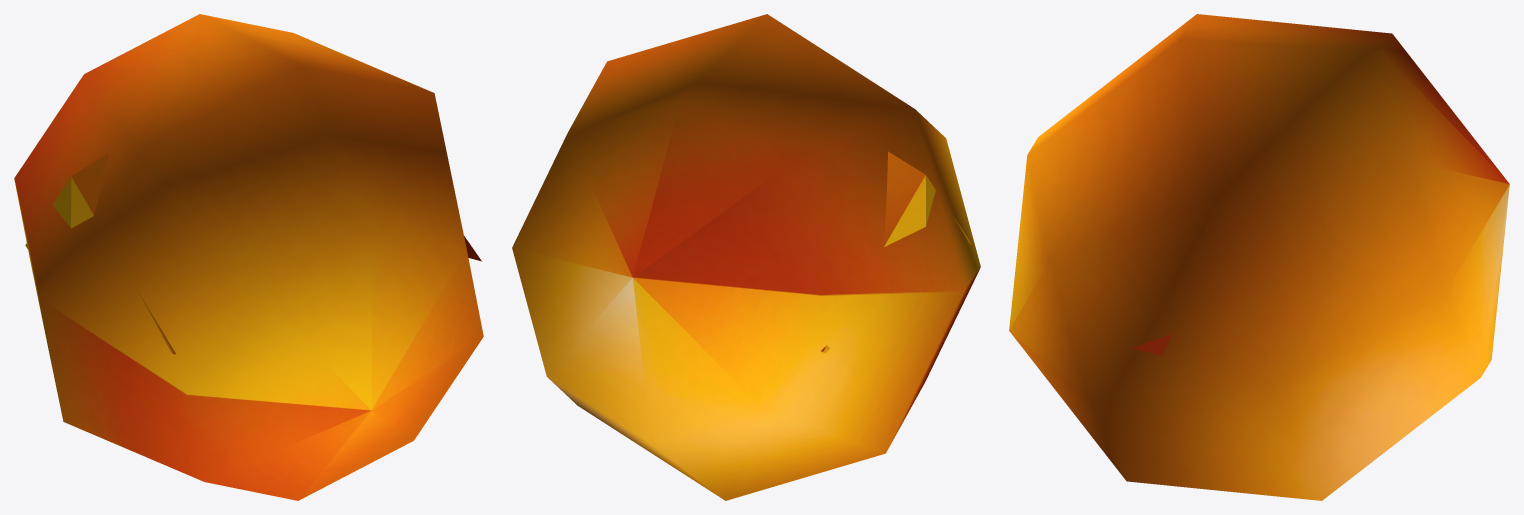
Rendered from cerberusOrb.obj.
3 views of the same model, side by side, from view 1: azimuth 30°, elevation 25°; view 2: azimuth 150°, elevation 25°; view 3: azimuth 270°, elevation 25° (orthographic). The views are drawn at different scales.
Parts seen in each view (by area): view 1: cerberus_Sphere_8; view 2: cerberus_Sphere_8; view 3: cerberus_Sphere_8.
Boxes of the visible parts, <box> form: cerberus_Sphere_8: <box>14,14,483,500</box>; cerberus_Sphere_8: <box>512,14,980,500</box>; cerberus_Sphere_8: <box>1009,14,1509,500</box>.
Size of the model in its own units: 771 by 736 by 738.
1 material, 1 textured.
